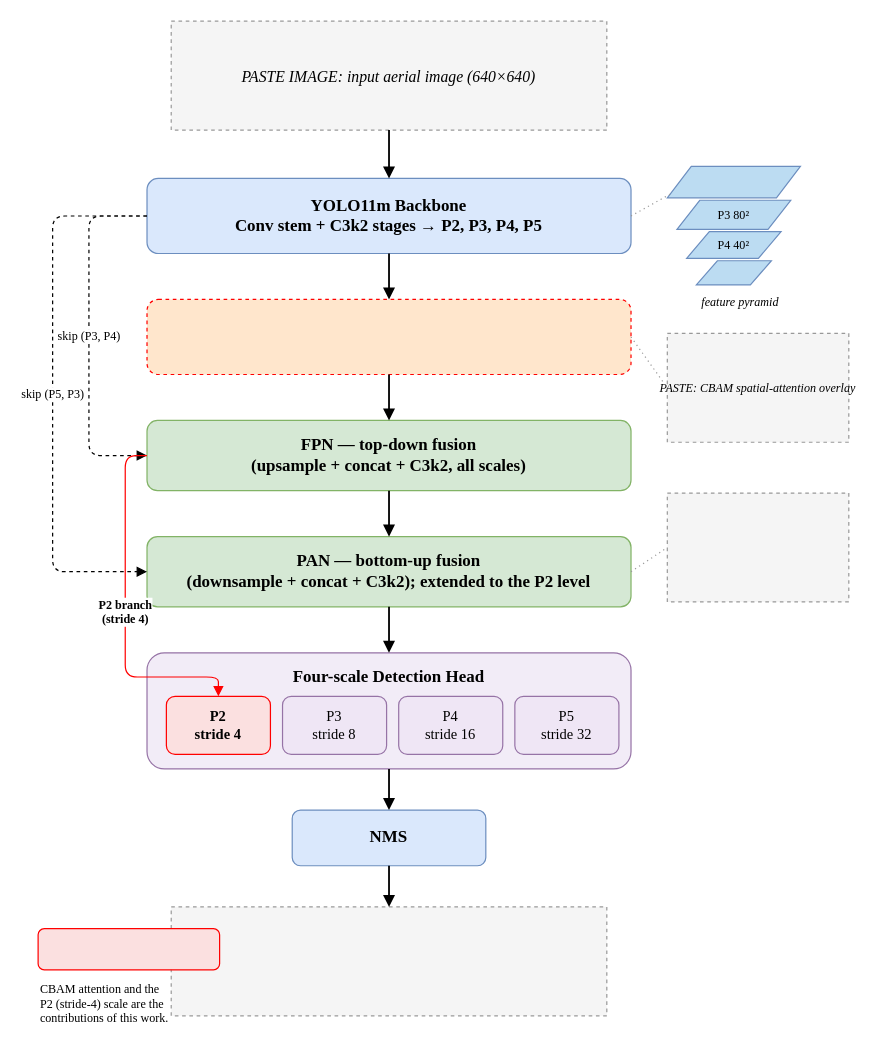
Image size: 877x1056. Some labels were removed from this diagram. The box of each missing label's shape, as (x1, y1, x2, y2) in pixels:
Added / modified in this work: (37, 927, 220, 970)
CBAM attention (channel + spatial) replaces the C2PSA block at P5: (146, 298, 631, 374)
P2 160²: (666, 165, 800, 198)
P5 20²: (695, 260, 771, 285)
PASTE IMAGE: detections on the same image: (170, 906, 607, 1016)
PASTE: P2 feature map (160×160): (666, 492, 849, 602)
